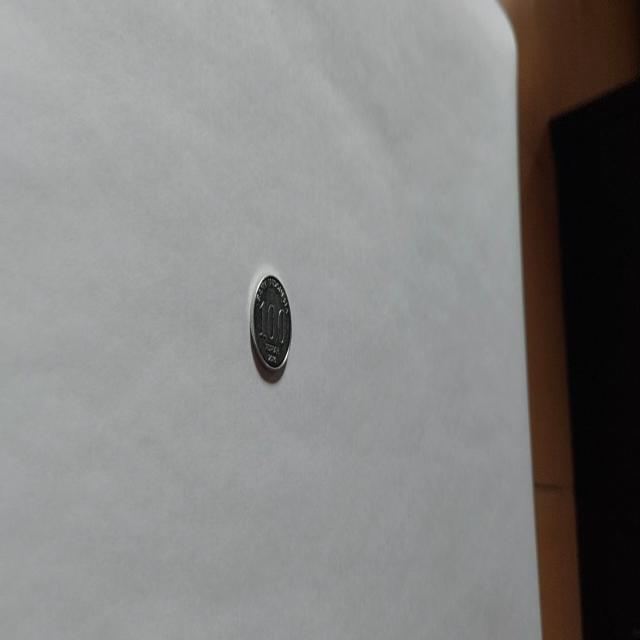seratus rupiah: (249, 272, 292, 375)
